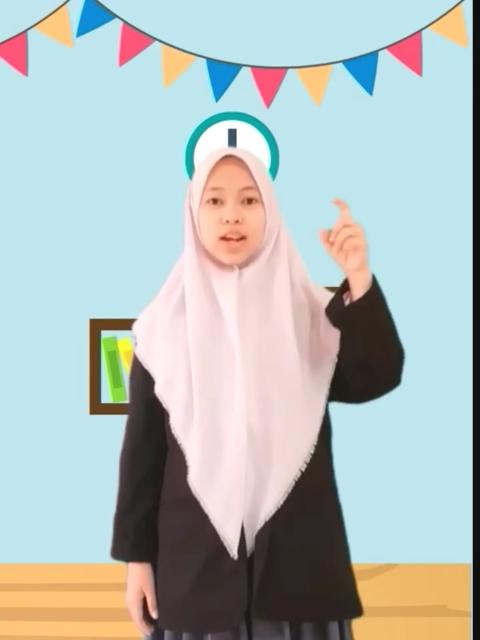X: (318, 194, 366, 276)
